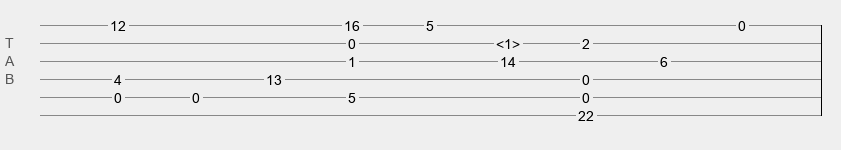0: (114, 90, 122, 100), (192, 90, 200, 100), (348, 36, 356, 46), (582, 72, 590, 82), (582, 90, 590, 100), (738, 18, 746, 28)
1: (348, 54, 356, 64)
12: (110, 18, 126, 28)
13: (266, 72, 282, 82)
14: (500, 54, 516, 64)
16: (344, 18, 360, 28)
2: (582, 36, 590, 46)
22: (578, 108, 594, 118)
4: (114, 72, 122, 82)
5: (348, 90, 356, 100), (426, 18, 434, 28)
6: (660, 54, 668, 64)
harmonic: (496, 36, 520, 46)
